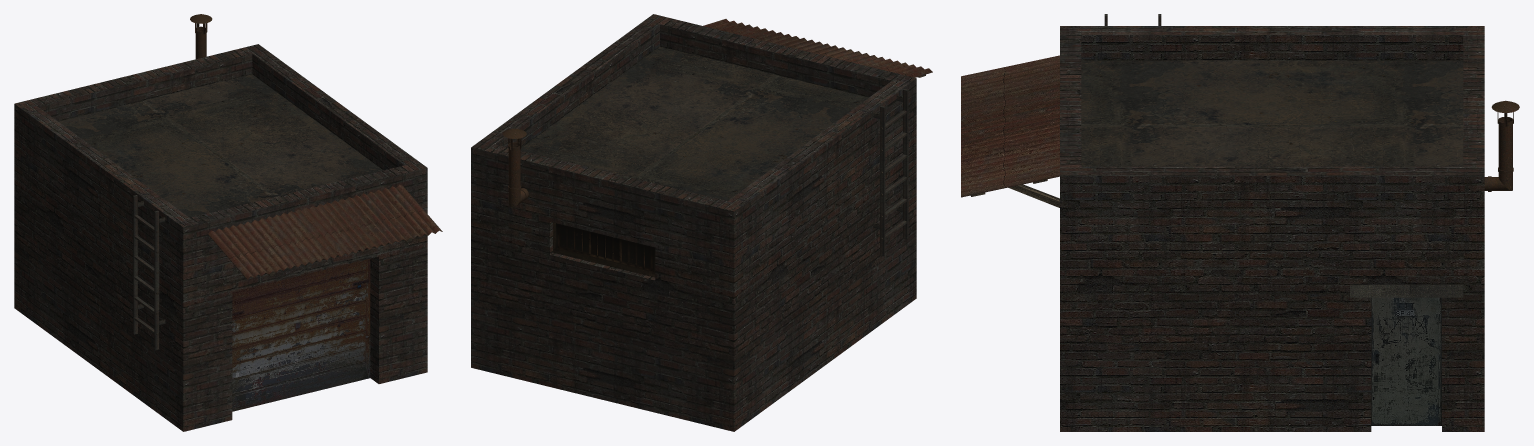
The model's file is garage_hm_2.glb.
The picture shows the model from 3 angles, left to right: view 1: azimuth 30°, elevation 25°; view 2: azimuth 150°, elevation 25°; view 3: azimuth 270°, elevation 25°; orthographic projection. The views are drawn at different scales.
Visible parts, largest first — view 1: garage_hm_2; view 2: garage_hm_2; view 3: garage_hm_2.
Boxes of the visible parts, box(x1,y1,x2,y2) form: garage_hm_2: box(14, 14, 442, 431); garage_hm_2: box(471, 14, 932, 431); garage_hm_2: box(961, 14, 1519, 431).
Size of the model in its own units: 5.22 by 4.7 by 7.9.
10 materials, 10 textured.
